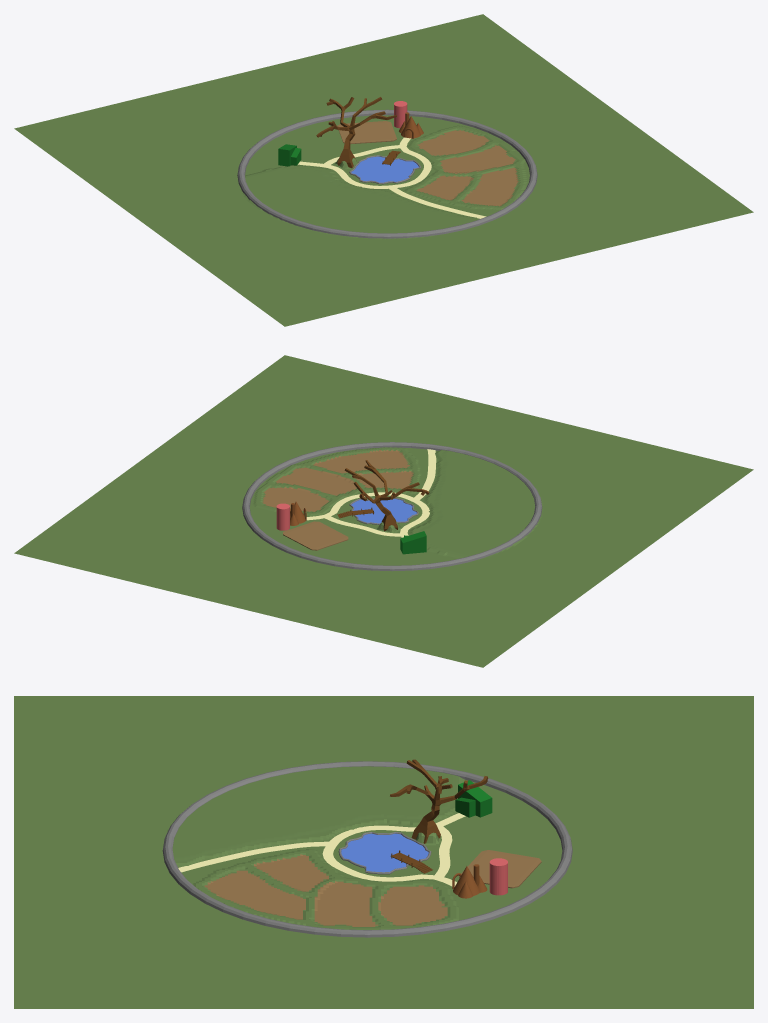
The model's file is Book1_Blocking.fbx.
3 views of the same model, one above another, from view 1: azimuth 30°, elevation 25°; view 2: azimuth 150°, elevation 25°; view 3: azimuth 270°, elevation 25° (orthographic). The views are drawn at different scales.
Visible parts, largest first — view 1: Plane, Torus, Torus.002, Cube.004, Cube.001, Plane.001; view 2: Plane, Torus, Torus.002, Cube.001, Cube.004, Plane.001, Cube; view 3: Plane, Torus, Torus.002, Cube.004, Plane.001, Cube.001, Cube, Plane.003, Cylinder.001, Cylinder, Plane.002.
Part boxes in pixels (bbox=[...]): Plane: bbox=[14, 14, 753, 326]; Torus: bbox=[237, 109, 537, 238]; Torus.002: bbox=[349, 155, 421, 184]; Cube.004: bbox=[316, 97, 396, 168]; Cube.001: bbox=[337, 121, 396, 144]; Plane.001: bbox=[298, 137, 431, 188]; Plane: bbox=[14, 355, 753, 667]; Torus: bbox=[242, 442, 542, 571]; Torus.002: bbox=[349, 496, 418, 524]; Cube.001: bbox=[283, 521, 348, 550]; Cube.004: bbox=[344, 460, 429, 531]; Plane.001: bbox=[306, 492, 429, 537]; Cube: bbox=[400, 531, 426, 554]; Plane: bbox=[14, 696, 753, 1008]; Torus: bbox=[162, 761, 572, 937]; Torus.002: bbox=[338, 832, 431, 874]; Cube.004: bbox=[390, 759, 488, 843]; Plane.001: bbox=[322, 813, 465, 886]; Cube.001: bbox=[459, 850, 541, 888]; Cube: bbox=[455, 780, 492, 817]; Plane.003: bbox=[178, 841, 331, 872]; Cylinder.001: bbox=[452, 864, 487, 898]; Cylinder: bbox=[489, 858, 507, 895]; Plane.002: bbox=[435, 823, 452, 876].
Size of the model in its own units: 60000 by 7104 by 60000.
